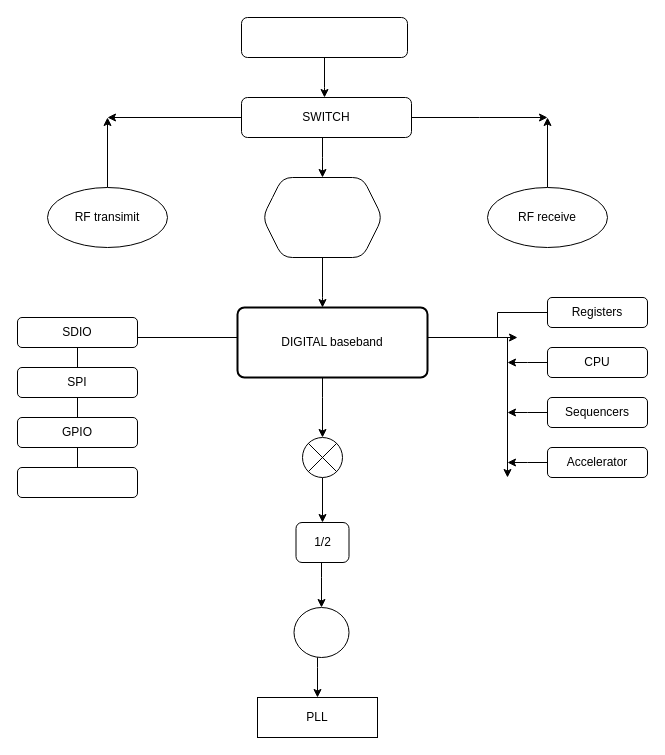
The diagram is 665 pixels wide and 755 high, and some of its shapes have lost their labels. The shapes that lost their labels are listed below. From the top down, each one's centre as x and y in pixels, then its label:
[324,37]: RF balun
[322,217]: ANALOG receive
[77,482]: I2C
[321,632]: VCO
